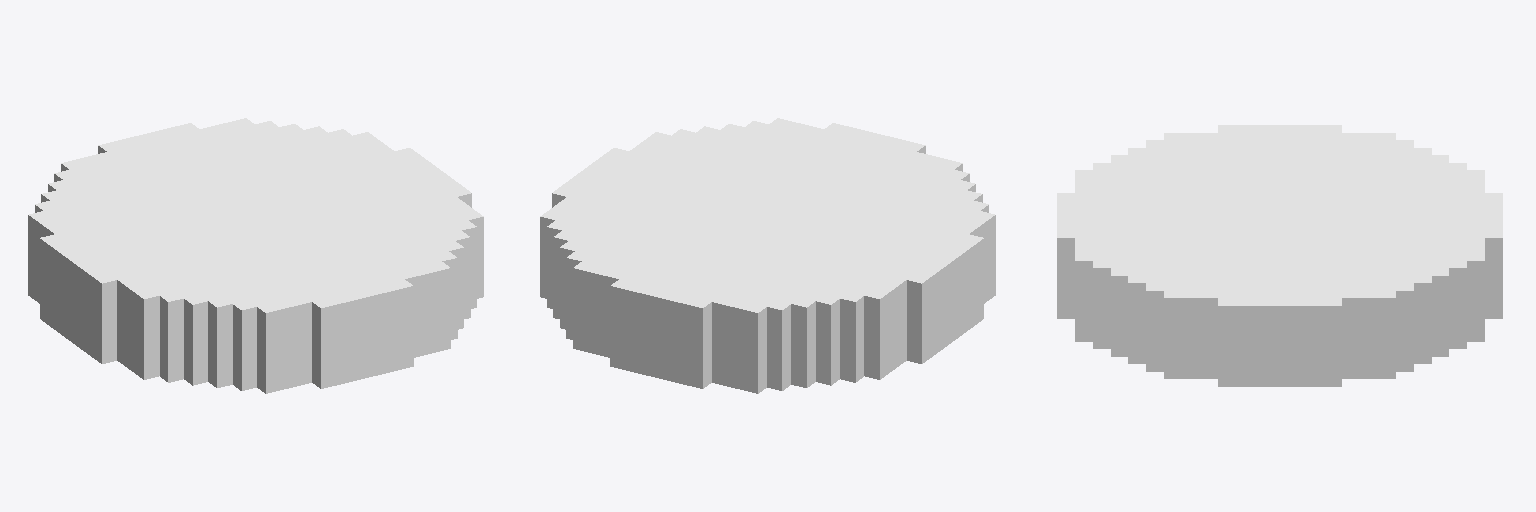
The model's file is mark.obj.
3 renders of one model, left to right at view 1: azimuth 30°, elevation 25°; view 2: azimuth 150°, elevation 25°; view 3: azimuth 270°, elevation 25°, orthographic.
Visible parts, largest first — view 1: object 1; view 2: object 1; view 3: object 1.
Part boxes in pixels (x1,y1,x2,y2): object 1: (28,118,483,393); object 1: (540,118,995,393); object 1: (1057,125,1502,386).
Bounding box in the file's own units: 2.4 × 0.5 × 2.5.